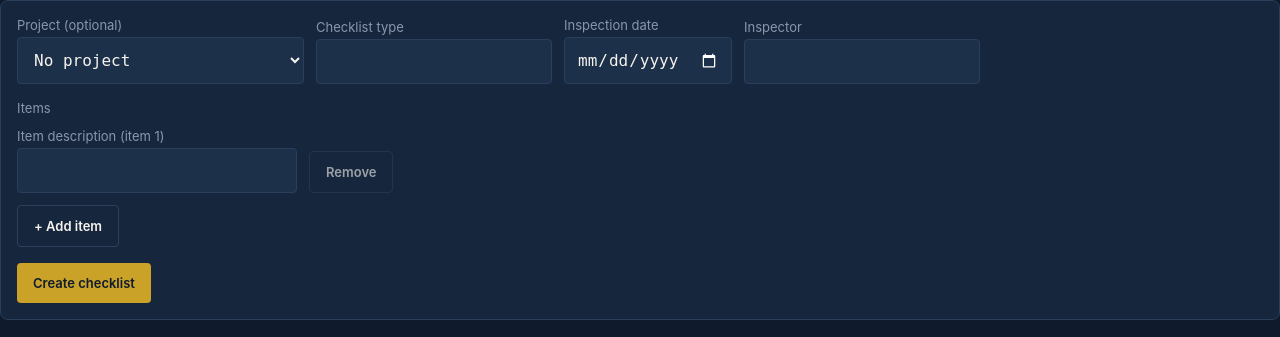
Scenario: CreateInspectionChecklistForm › disables the submit button and shows pending text while submitting
Type "Scaffolding" into the field labelled "Checklist type". click: (434,62)
box: [316,39,552,84]
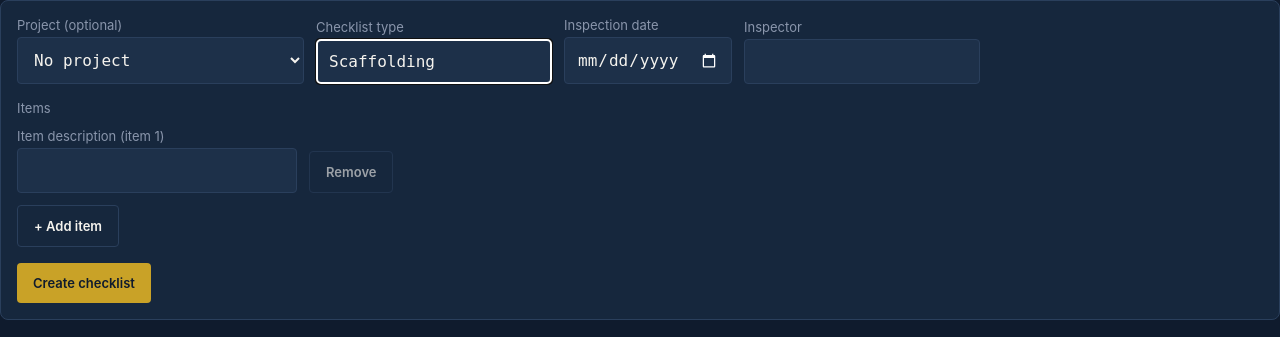
Type "2026-08-01" into the date field labelled "Inspection date". click: (648,60)
box: [564,37,732,84]
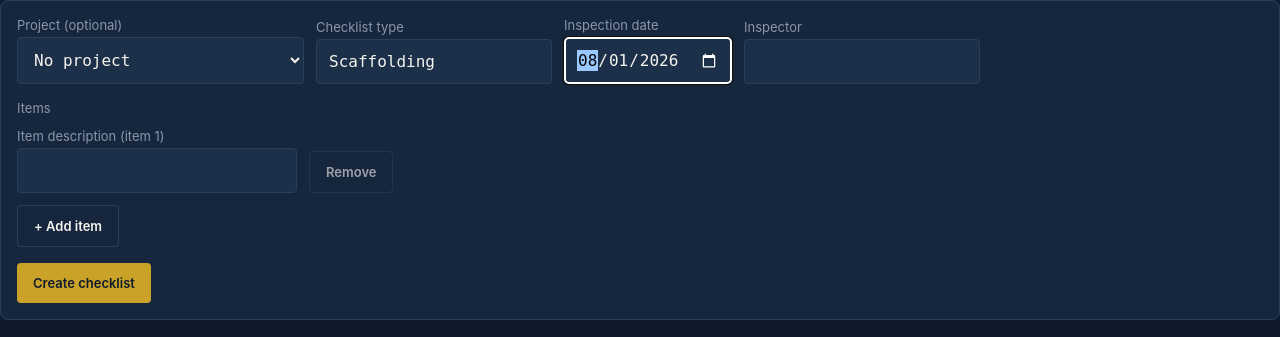
Type "Site Inspector A" into the field labelled "Inspector". click: (862,62)
box: [744,39,980,84]
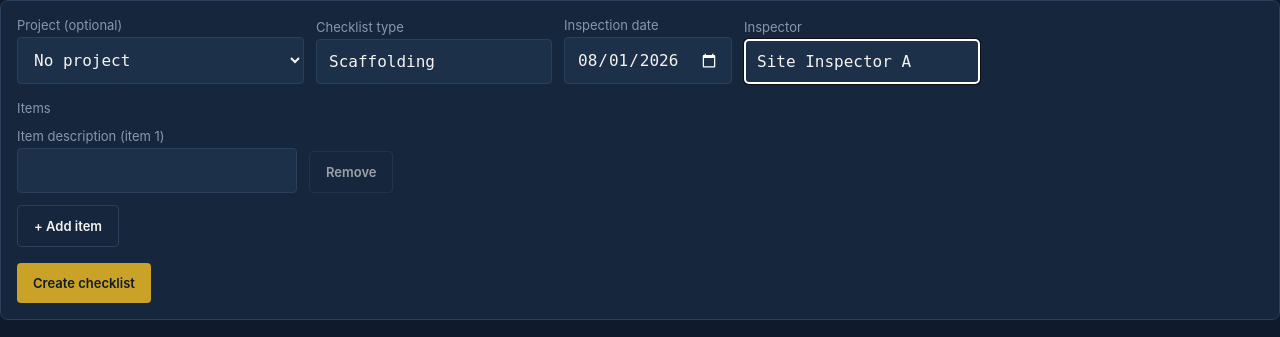
Type "Guardrails secure" into the field labelled "Item description (item 1)". click: (157,170)
box: [17,148,297,193]
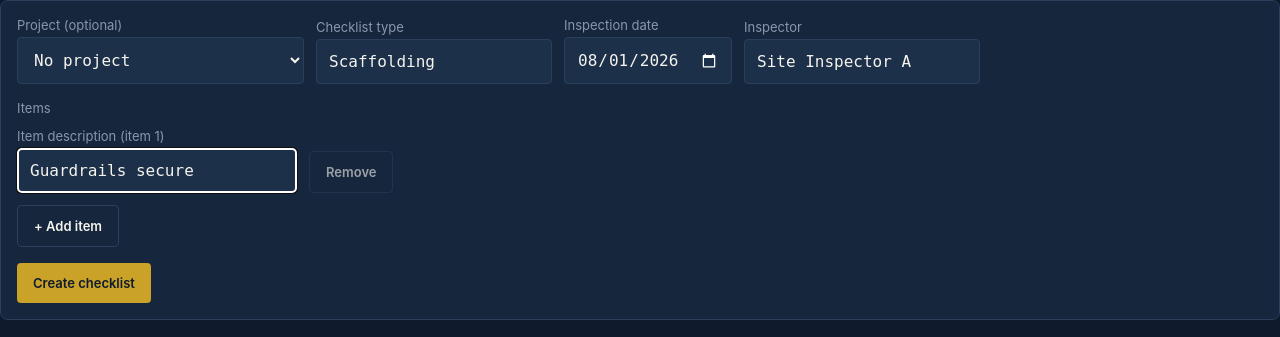
Click the button "Create checklist". click: (84,283)
box: [17,263,151,303]
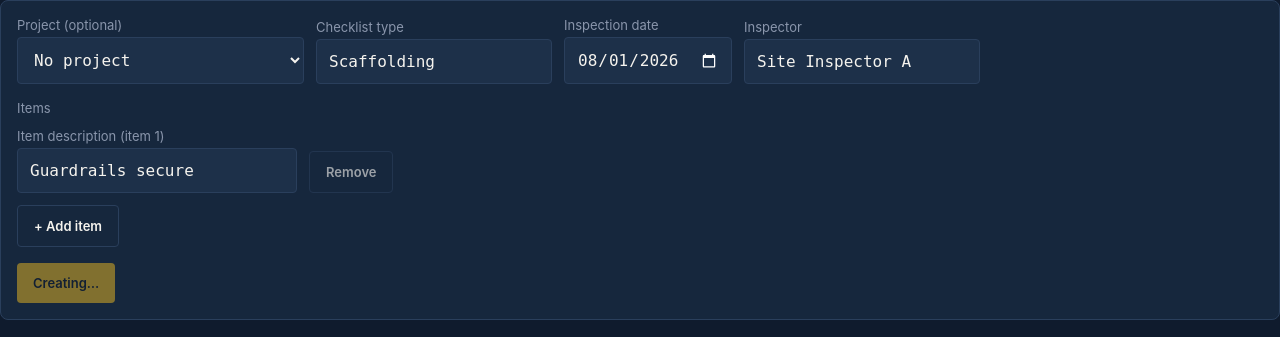
Check: the button "Creating…" is disabled, box [17,263,115,303]
